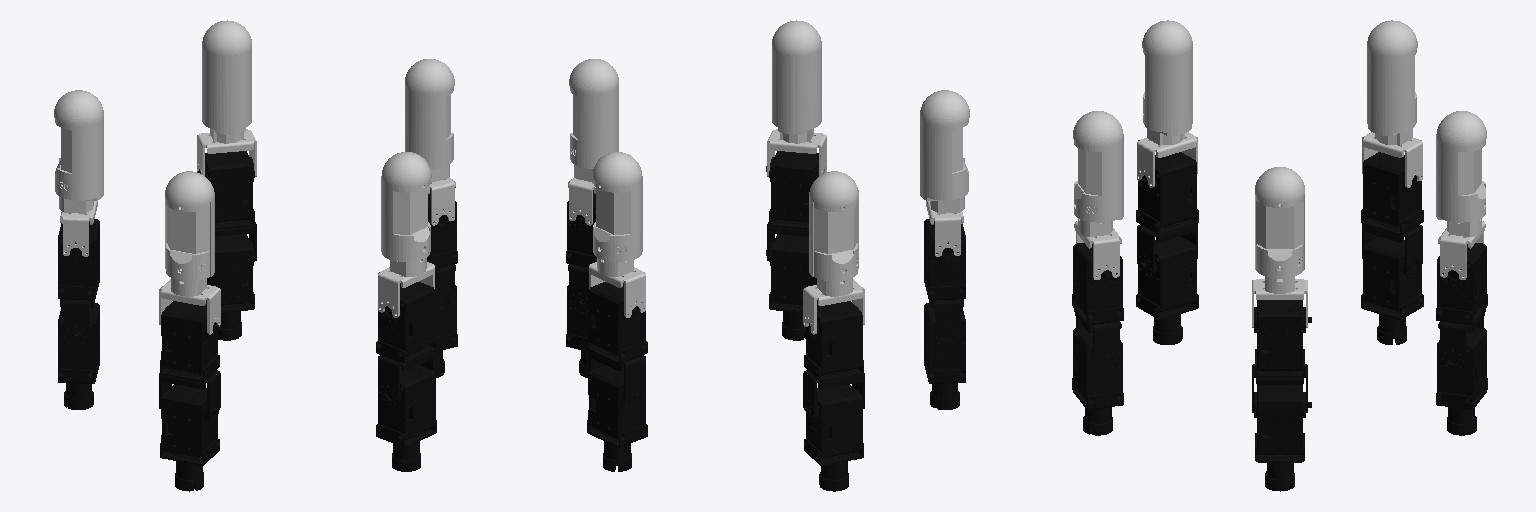
robot.urdf — hand:
<?xml version="1.0" encoding="utf-8"?>

<robot name="hand">

  <material name="black">
    <color rgba="0 0 0 1"/>
  </material>
  <material name="gray">
    <color rgba="0.1 0.1 0.1 1"/>
  </material>
  <material name="lightgray">
    <color rgba="0.8 0.8 0.8 1"/>
  </material>

  <link name="base_link">
    <origin rpy="0.0 0.0 0.0" xyz="0.0 0.0 0.0"/>
  </link>

  <!-- Finger 1 -->
  <link name="finger1_proximal">
    <visual>
      <origin rpy="0 0 0" xyz="0 0 0" />
      <geometry>
        <mesh filename="package://hand/urdf/meshes/visual/proximal.dae"/>
      </geometry>
      <material name="gray"/>
    </visual>
    <collision>
      <origin rpy="0 0 0" xyz="0 0 0" />
      <geometry>
        <mesh filename="package://hand/urdf/meshes/collision/proximal.obj"/>
      </geometry>
    </collision>
    <inertial>
      <mass value="0.100"/>
    </inertial>
  </link>
  <link name="finger1_middle">
    <visual>
      <origin rpy="0 0 0" xyz="0 0 0" />
      <geometry>
        <mesh filename="package://hand/urdf/meshes/visual/middle.dae"/>
      </geometry>
      <material name="gray"/>
    </visual>
    <collision>
      <origin rpy="0 0 0" xyz="0 0 0" />
      <geometry>
        <mesh filename="package://hand/urdf/meshes/collision/middle.obj"/>
      </geometry>
    </collision>
    <inertial>
      <mass value="0.100"/>
    </inertial>
  </link>
  <link name="finger1_distal">
    <visual>
      <origin rpy="0 3.14159265359 0" xyz="0 0 0"/>
      <geometry>
        <mesh filename="package://hand/urdf/meshes/visual/distal.dae"/>
      </geometry>
      <material name="lightgray"/>
    </visual>
<!--    <visual name="tip">-->
<!--      <origin xyz="0 0 0"/>-->
<!--      <geometry>-->
<!--        <sphere radius="0.019"/>-->
<!--      </geometry>-->
<!--    </visual>-->
<!--    <visual name="body">-->
<!--      <origin xyz="0 0 -0.03075"/>-->
<!--      <geometry>-->
<!--        <cylinder length="0.0615" radius="0.019"/>-->
<!--      </geometry>-->
<!--    </visual>-->
    <collision name="tip">
      <origin rpy="-1.57079633 1.57079633 0" xyz="0.0 0.1043 0.0"/>
      <geometry>
        <sphere radius="0.019"/>
      </geometry>
    </collision>
    <collision name="body">
      <origin rpy="-1.57079633 1.57079633 0" xyz="0 0.06358 0.0"/>
      <geometry>
        <cylinder length="0.0815" radius="0.019"/>
      </geometry>
    </collision>
    <inertial>
      <mass value="0.11"/>
      <inertia ixx="0.01" ixy="0.00" ixz="0.00" iyy="0.01" iyz="0.0" izz="0.01"/>
      <!-- inertia is recomputed when loading asset  -->
    </inertial>
  </link>
  <link name="finger1_distal_tip">
  </link>
  <joint name="finger1_proximal_joint" type="revolute">
    <parent link="base_link"/>
    <child link="finger1_proximal"/>
    <origin rpy="1.57079633 0 1.57079633" xyz="0.14142136 0.0 0.041"/>
    <axis xyz="0 1 0"/>
    <limit effort="4" velocity="1.0" lower="-1.0" upper="1.0"/>
  </joint>
  <joint name="finger1_middle_joint" type="revolute">
    <parent link="finger1_proximal"/>
    <child link="finger1_middle"/>
    <origin rpy="0 0 0" xyz="0.0 0.0655 0.0"/>
    <axis xyz="-1 0 0"/>
    <limit effort="4" velocity="1.0" lower="0.0" upper="1.0"/>
  </joint>
  <joint name="finger1_distal_joint" type="revolute">
    <parent link="finger1_middle"/>
    <child link="finger1_distal"/>
    <origin rpy="0 0 0" xyz="0.0 0.069 0.0"/>
    <axis xyz="-1 0 0"/>
    <limit effort="4" velocity="1.0" lower="0.0" upper="1.0"/>
  </joint>
  <joint name="finger1_distal_tip_joint" type="fixed">
    <parent link="finger1_distal"/>
    <child link="finger1_distal_tip"/>
    <origin rpy="-1.57079633 1.57079633 0" xyz="0.0 0.1035 0.0"/>
  </joint>

  <!-- Finger 2 -->
  <link name="finger2_proximal">
    <visual>
      <origin rpy="0 0 0" xyz="0 0 0" />
      <geometry>
        <mesh filename="package://hand/urdf/meshes/visual/proximal.dae"/>
      </geometry>
      <material name="gray"/>
    </visual>
    <collision>
      <origin rpy="0 0 0" xyz="0 0 0" />
      <geometry>
        <mesh filename="package://hand/urdf/meshes/collision/proximal.obj"/>
      </geometry>
    </collision>
    <inertial>
      <mass value="0.100"/>
    </inertial>
  </link>
  <link name="finger2_middle">
    <visual>
      <origin rpy="0 0 0" xyz="0 0 0" />
      <geometry>
        <mesh filename="package://hand/urdf/meshes/visual/middle.dae"/>
      </geometry>
      <material name="gray"/>
    </visual>
    <collision>
      <origin rpy="0 0 0" xyz="0 0 0" />
      <geometry>
        <mesh filename="package://hand/urdf/meshes/collision/middle.obj"/>
      </geometry>
    </collision>
    <inertial>
      <mass value="0.100"/>
    </inertial>
  </link>
  <link name="finger2_distal">
    <visual>
      <origin rpy="0 3.14159265359 0" xyz="0 0 0" />
      <geometry>
        <mesh filename="package://hand/urdf/meshes/visual/distal.dae"/>
      </geometry>
      <material name="lightgray"/>
    </visual>
<!--    <collision>-->
<!--      <origin rpy="0 3.14159265359 0" xyz="0 0 0" />-->
<!--      <geometry>-->
<!--        <mesh filename="package://hand/urdf/meshes/collision/distal.obj"/>-->
<!--      </geometry>-->
<!--    </collision>-->
    <collision name="tip">
      <origin rpy="-1.57079633 1.57079633 0" xyz="0.0 0.1043 0.0"/>
      <geometry>
        <sphere radius="0.019"/>
      </geometry>
    </collision>
    <collision name="body">
      <origin rpy="-1.57079633 1.57079633 0" xyz="0 0.06358 0.0"/>
      <geometry>
        <cylinder length="0.0815" radius="0.019"/>
      </geometry>
    </collision>
    <inertial>
      <mass value="0.11"/>
      <inertia ixx="0.01" ixy="0.00" ixz="0.00" iyy="0.01" iyz="0.0" izz="0.01"/>
      <!-- inertia is recomputed when loading asset  -->
    </inertial>
  </link>
  <link name="finger2_distal_tip">
<!--    <visual name="tip">-->
<!--      <origin xyz="0 0 0"/>-->
<!--      <geometry>-->
<!--        <sphere radius="0.019"/>-->
<!--      </geometry>-->
<!--    </visual>-->
<!--    <visual name="body">-->
<!--      <origin xyz="0 0 -0.03075"/>-->
<!--      <geometry>-->
<!--        <cylinder length="0.0615" radius="0.019"/>-->
<!--      </geometry>-->
<!--    </visual>-->
<!--    <collision name="tip">-->
<!--      <origin xyz="0 0 0"/>-->
<!--      <geometry>-->
<!--        <sphere radius="0.019"/>-->
<!--      </geometry>-->
<!--    </collision>-->
<!--    <collision name="body">-->
<!--      <origin xyz="0 0 -0.03075"/>-->
<!--      <geometry>-->
<!--        <cylinder length="0.0615" radius="0.019"/>-->
<!--      </geometry>-->
<!--    </collision>-->
<!--    <inertial>-->
<!--      <mass value="0.05"/>-->
<!--      <inertia ixx="0.01" ixy="0.00" ixz="0.00" iyy="0.01" iyz="0.0" izz="0.01"/>-->
<!--      &lt;!&ndash; inertia is recomputed when loading asset  &ndash;&gt;-->
<!--    </inertial>-->
  </link>
  <joint name="finger2_proximal_joint" type="revolute">
    <parent link="base_link"/>
    <child link="finger2_proximal"/>
    <origin rpy="1.57079633 0 2.82743338823" xyz="0.043701602 0.134499702 0.041"/>
    <axis xyz="0 1 0"/>
    <limit effort="4" velocity="1.0" lower="-1.0" upper="1.0"/>
  </joint>
  <joint name="finger2_middle_joint" type="revolute">
    <parent link="finger2_proximal"/>
    <child link="finger2_middle"/>
    <origin rpy="0 0 0" xyz="0.0 0.0655 0.0"/>
    <axis xyz="-1 0 0"/>
    <limit effort="4" velocity="1.0" lower="0.0" upper="1.0"/>
  </joint>
  <joint name="finger2_distal_joint" type="revolute">
    <parent link="finger2_middle"/>
    <child link="finger2_distal"/>
    <origin rpy="0 0 0" xyz="0.0 0.069 0.0"/>
    <axis xyz="-1 0 0"/>
    <limit effort="4" velocity="1.0" lower="0.0" upper="1.0"/>
  </joint>
  <joint name="finger2_distal_tip_joint" type="fixed">
    <parent link="finger2_distal"/>
    <child link="finger2_distal_tip"/>
    <origin rpy="-1.57079633 1.57079633 0" xyz="0.0 0.1035 0.0"/>
  </joint>


  <!-- Finger 3 -->
  <link name="finger3_proximal">
     <visual>
      <origin rpy="0 0 0" xyz="0 0 0" />
      <geometry>
        <mesh filename="package://hand/urdf/meshes/visual/proximal.dae"/>
      </geometry>
      <material name="gray"/>
    </visual>
    <collision>
      <origin rpy="0 0 0" xyz="0 0 0" />
      <geometry>
        <mesh filename="package://hand/urdf/meshes/collision/proximal.obj"/>
      </geometry>
    </collision>
     <inertial>
      <mass value="0.100"/>
    </inertial>
  </link>
  <link name="finger3_middle">
    <visual>
      <origin rpy="0 0 0" xyz="0 0 0" />
      <geometry>
        <mesh filename="package://hand/urdf/meshes/visual/middle.dae"/>
      </geometry>
      <material name="gray"/>
    </visual>
    <collision>
      <origin rpy="0 0 0" xyz="0 0 0" />
      <geometry>
        <mesh filename="package://hand/urdf/meshes/collision/middle.obj"/>
      </geometry>
    </collision>
    <inertial>
      <mass value="0.100"/>
    </inertial>
  </link>
  <link name="finger3_distal">
    <visual>
      <origin rpy="0 3.14159265359 0" xyz="0 0 0" />
      <geometry>
        <mesh filename="package://hand/urdf/meshes/visual/distal.dae"/>
      </geometry>
      <material name="lightgray"/>
    </visual>
<!--    <collision>-->
<!--      <origin rpy="0 3.14159265359 0" xyz="0 0 0" />-->
<!--      <geometry>-->
<!--        <mesh filename="package://hand/urdf/meshes/collision/distal.obj"/>-->
<!--      </geometry>-->
<!--    </collision>-->
    <collision name="tip">
      <origin rpy="-1.57079633 1.57079633 0" xyz="0.0 0.1043 0.0"/>
      <geometry>
        <sphere radius="0.019"/>
      </geometry>
    </collision>
    <collision name="body">
      <origin rpy="-1.57079633 1.57079633 0" xyz="0 0.06358 0.0"/>
      <geometry>
        <cylinder length="0.0815" radius="0.019"/>
      </geometry>
    </collision>
    <inertial>
      <mass value="0.11"/>
      <inertia ixx="0.01" ixy="0.00" ixz="0.00" iyy="0.01" iyz="0.0" izz="0.01"/>
      <!-- inertia is recomputed when loading asset  -->
    </inertial>
  </link>
  <link name="finger3_distal_tip">
<!--       <visual name="tip">-->
<!--      <origin xyz="0 0 0"/>-->
<!--      <geometry>-->
<!--        <sphere radius="0.019"/>-->
<!--      </geometry>-->
<!--    </visual>-->
<!--    <visual name="body">-->
<!--      <origin xyz="0 0 -0.03075"/>-->
<!--      <geometry>-->
<!--        <cylinder length="0.0615" radius="0.019"/>-->
<!--      </geometry>-->
<!--    </visual>-->
<!--    <collision name="tip">-->
<!--      <origin xyz="0 0 0"/>-->
<!--      <geometry>-->
<!--        <sphere radius="0.019"/>-->
<!--      </geometry>-->
<!--    </collision>-->
<!--    <collision name="body">-->
<!--      <origin xyz="0 0 -0.03075"/>-->
<!--      <geometry>-->
<!--        <cylinder length="0.0615" radius="0.019"/>-->
<!--      </geometry>-->
<!--    </collision>-->
<!--    <inertial>-->
<!--      <mass value="0.11"/>-->
<!--      <inertia ixx="0.01" ixy="0.00" ixz="0.00" iyy="0.01" iyz="0.0" izz="0.01"/>-->
<!--      &lt;!&ndash; inertia is recomputed when loading asset  &ndash;&gt;-->
<!--    </inertial>-->
  </link>
  <joint name="finger3_proximal_joint" type="revolute">
    <parent link="base_link"/>
    <child link="finger3_proximal"/>
    <origin rpy="1.57079633 0 -2.19911485751" xyz="-0.114412281  0.083125388  0.041"/>
    <axis xyz="0 1 0"/>
    <limit effort="4" velocity="1.0" lower="-1.0" upper="1.0"/>
  </joint>
  <joint name="finger3_middle_joint" type="revolute">
    <parent link="finger3_proximal"/>
    <child link="finger3_middle"/>
    <origin rpy="0 0 0" xyz="0.0 0.0655 0.0"/>
    <axis xyz="-1 0 0"/>
    <limit effort="4" velocity="1.0" lower="0.0" upper="1.0"/>
  </joint>
  <joint name="finger3_distal_joint" type="revolute">
    <parent link="finger3_middle"/>
    <child link="finger3_distal"/>
    <origin rpy="0 0 0" xyz="0.0 0.069 0.0"/>
    <axis xyz="-1 0 0"/>
    <limit effort="4" velocity="1.0" lower="0.0" upper="1.0"/>
  </joint>
  <joint name="finger3_distal_tip_joint" type="fixed">
    <parent link="finger3_distal"/>
    <child link="finger3_distal_tip"/>
    <origin rpy="-1.57079633 1.57079633 0" xyz="0.0 0.1035 0.0"/>
  </joint>

  <!-- Finger 4 -->
  <link name="finger4_proximal">
     <visual>
      <origin rpy="0 0 0" xyz="0 0 0" />
      <geometry>
        <mesh filename="package://hand/urdf/meshes/visual/proximal.dae"/>
      </geometry>
      <material name="gray"/>
    </visual>
    <collision>
      <origin rpy="0 0 0" xyz="0 0 0" />
      <geometry>
        <mesh filename="package://hand/urdf/meshes/collision/proximal.obj"/>
      </geometry>
    </collision>
    <inertial>
      <mass value="0.100"/>
    </inertial>
  </link>
  <link name="finger4_middle">
   <visual>
      <origin rpy="0 0 0" xyz="0 0 0" />
      <geometry>
        <mesh filename="package://hand/urdf/meshes/visual/middle.dae"/>
      </geometry>
      <material name="gray"/>
    </visual>
    <collision>
      <origin rpy="0 0 0" xyz="0 0 0" />
      <geometry>
        <mesh filename="package://hand/urdf/meshes/collision/middle.obj"/>
      </geometry>
    </collision>
    <inertial>
      <mass value="0.100"/>
    </inertial>
  </link>
  <link name="finger4_distal">
    <visual>
      <origin rpy="0 3.14159265359 0" xyz="0 0 0" />
      <geometry>
        <mesh filename="package://hand/urdf/meshes/visual/distal.dae"/>
      </geometry>
      <material name="lightgray"/>
    </visual>
<!--    <collision>-->
<!--      <origin rpy="0 3.14159265359 0" xyz="0 0 0" />-->
<!--      <geometry>-->
<!--        <mesh filename="package://hand/urdf/meshes/collision/distal.obj"/>-->
<!--      </geometry>-->
<!--    </collision>-->
    <collision name="tip">
      <origin rpy="-1.57079633 1.57079633 0" xyz="0.0 0.1043 0.0"/>
      <geometry>
        <sphere radius="0.019"/>
      </geometry>
    </collision>
    <collision name="body">
      <origin rpy="-1.57079633 1.57079633 0" xyz="0 0.06358 0.0"/>
      <geometry>
        <cylinder length="0.0815" radius="0.019"/>
      </geometry>
    </collision>
    <inertial>
      <mass value="0.11"/>
      <inertia ixx="0.01" ixy="0.00" ixz="0.00" iyy="0.01" iyz="0.0" izz="0.01"/>
      <!-- inertia is recomputed when loading asset  -->
    </inertial>
  </link>
  <link name="finger4_distal_tip">
<!--       <visual name="tip">-->
<!--      <origin xyz="0 0 0"/>-->
<!--      <geometry>-->
<!--        <sphere radius="0.019"/>-->
<!--      </geometry>-->
<!--    </visual>-->
<!--    <visual name="body">-->
<!--      <origin xyz="0 0 -0.03075"/>-->
<!--      <geometry>-->
<!--        <cylinder length="0.0615" radius="0.019"/>-->
<!--      </geometry>-->
<!--    </visual>-->
<!--    <collision name="tip">-->
<!--      <origin xyz="0 0 0"/>-->
<!--      <geometry>-->
<!--        <sphere radius="0.019"/>-->
<!--      </geometry>-->
<!--    </collision>-->
<!--    <collision name="body">-->
<!--      <origin xyz="0 0 -0.03075"/>-->
<!--      <geometry>-->
<!--        <cylinder length="0.0615" radius="0.019"/>-->
<!--      </geometry>-->
<!--    </collision>-->
<!--    <inertial>-->
<!--      <mass value="0.05"/>-->
<!--      <inertia ixx="0.01" ixy="0.00" ixz="0.00" iyy="0.01" iyz="0.0" izz="0.01"/>-->
<!--      &lt;!&ndash; inertia is recomputed when loading asset  &ndash;&gt;-->
<!--    </inertial>-->
  </link>
  <joint name="finger4_proximal_joint" type="revolute">
    <parent link="base_link"/>
    <child link="finger4_proximal"/>
    <origin rpy="1.57079633 0 -0.94247779607" xyz="-0.114412281 -0.083125388  0.041"/>
    <axis xyz="0 1 0"/>
    <limit effort="4" velocity="1.0" lower="-1.0" upper="1.0"/>
  </joint>
  <joint name="finger4_middle_joint" type="revolute">
    <parent link="finger4_proximal"/>
    <child link="finger4_middle"/>
    <origin rpy="0 0 0" xyz="0.0 0.0655 0.0"/>
    <axis xyz="-1 0 0"/>
    <limit effort="4" velocity="1.0" lower="0.0" upper="1.0"/>
  </joint>
  <joint name="finger4_distal_joint" type="revolute">
    <parent link="finger4_middle"/>
    <child link="finger4_distal"/>
    <origin rpy="0 0 0" xyz="0.0 0.069 0.0"/>
    <axis xyz="-1 0 0"/>
    <limit effort="4" velocity="1.0" lower="0.0" upper="1.0"/>
  </joint>
  <joint name="finger4_distal_tip_joint" type="fixed">
    <parent link="finger4_distal"/>
    <child link="finger4_distal_tip"/>
    <origin rpy="-1.57079633 1.57079633 0" xyz="0.0 0.1035 0.0"/>
  </joint>


  <!-- Finger 5 -->
  <link name="finger5_proximal">
     <visual>
      <origin rpy="0 0 0" xyz="0 0 0" />
      <geometry>
        <mesh filename="package://hand/urdf/meshes/visual/proximal.dae"/>
      </geometry>
      <material name="gray"/>
    </visual>
    <collision>
      <origin rpy="0 0 0" xyz="0 0 0" />
      <geometry>
        <mesh filename="package://hand/urdf/meshes/collision/proximal.obj"/>
      </geometry>
    </collision>
    <inertial>
      <mass value="0.100"/>
    </inertial>
  </link>
  <link name="finger5_middle">
    <visual>
      <origin rpy="0 0 0" xyz="0 0 0" />
      <geometry>
        <mesh filename="package://hand/urdf/meshes/visual/middle.dae"/>
      </geometry>
      <material name="gray"/>
    </visual>
    <collision>
      <origin rpy="0 0 0" xyz="0 0 0" />
      <geometry>
        <mesh filename="package://hand/urdf/meshes/collision/middle.obj"/>
      </geometry>
    </collision>
    <inertial>
      <mass value="0.100"/>
    </inertial>
  </link>
  <link name="finger5_distal">
    <visual>
      <origin rpy="0 3.14159265359 0" xyz="0 0 0"/>
      <geometry>
        <mesh filename="package://hand/urdf/meshes/visual/distal.dae"/>
      </geometry>
      <material name="lightgray"/>
    </visual>
<!--    <collision>-->
<!--      <origin rpy="0 3.14159265359 0" xyz="0 0 0" />-->
<!--      <geometry>-->
<!--        <mesh filename="package://hand/urdf/meshes/collision/distal.obj"/>-->
<!--      </geometry>-->
<!--    </collision>-->
    <collision name="tip">
      <origin rpy="-1.57079633 1.57079633 0" xyz="0.0 0.1043 0.0"/>
      <geometry>
        <sphere radius="0.019"/>
      </geometry>
    </collision>
    <collision name="body">
      <origin rpy="-1.57079633 1.57079633 0" xyz="0 0.06358 0.0"/>
      <geometry>
        <cylinder length="0.0815" radius="0.019"/>
      </geometry>
    </collision>
    <inertial>
      <mass value="0.11"/>
      <inertia ixx="0.01" ixy="0.00" ixz="0.00" iyy="0.01" iyz="0.0" izz="0.01"/>
      <!-- inertia is recomputed when loading asset  -->
    </inertial>
  </link>
  <link name="finger5_distal_tip">
<!--       <visual name="tip">-->
<!--      <origin xyz="0 0 0"/>-->
<!--      <geometry>-->
<!--        <sphere radius="0.019"/>-->
<!--      </geometry>-->
<!--    </visual>-->
<!--    <visual name="body">-->
<!--      <origin xyz="0 0 -0.03075"/>-->
<!--      <geometry>-->
<!--        <cylinder length="0.0615" radius="0.019"/>-->
<!--      </geometry>-->
<!--    </visual>-->
<!--    <collision name="tip">-->
<!--      <origin xyz="0 0 0"/>-->
<!--      <geometry>-->
<!--        <sphere radius="0.019"/>-->
<!--      </geometry>-->
<!--    </collision>-->
<!--    <collision name="body">-->
<!--      <origin xyz="0 0 -0.03075"/>-->
<!--      <geometry>-->
<!--        <cylinder length="0.0615" radius="0.019"/>-->
<!--      </geometry>-->
<!--    </collision>-->
<!--    <inertial>-->
<!--      <mass value="0.05"/>-->
<!--      <inertia ixx="0.01" ixy="0.00" ixz="0.00" iyy="0.01" iyz="0.0" izz="0.01"/>-->
<!--      &lt;!&ndash; inertia is recomputed when loading asset  &ndash;&gt;-->
<!--    </inertial>-->
  </link>
  <joint name="finger5_proximal_joint" type="revolute">
    <parent link="base_link"/>
    <child link="finger5_proximal"/>
    <origin rpy="1.57079633 0 0.31415926535" xyz="0.043701602 -0.134499702  0.041"/>
    <axis xyz="0 1 0"/>
    <limit effort="4" velocity="1.0" lower="-1.0" upper="1.0"/>
  </joint>
  <joint name="finger5_middle_joint" type="revolute">
    <parent link="finger5_proximal"/>
    <child link="finger5_middle"/>
    <origin rpy="0 0 0" xyz="0.0 0.0655 0.0"/>
    <axis xyz="-1 0 0"/>
    <limit effort="4" velocity="1.0" lower="0.0" upper="1.0"/>
  </joint>
  <joint name="finger5_distal_joint" type="revolute">
    <parent link="finger5_middle"/>
    <child link="finger5_distal"/>
    <origin rpy="0 0 0" xyz="0.0 0.069 0.0"/>
    <axis xyz="-1 0 0"/>
    <limit effort="4" velocity="1.0" lower="0.0" upper="1.0"/>
  </joint>
  <joint name="finger5_distal_tip_joint" type="fixed">
    <parent link="finger5_distal"/>
    <child link="finger5_distal_tip"/>
    <origin rpy="-1.57079633 1.57079633 0" xyz="0.0 0.1035 0.0"/>
  </joint>
</robot>

--- What the picture shows (computed from the rendered views, not written in the file) ---
The picture shows the robot from 3 angles, left to right: view 1: azimuth 30°, elevation 25°; view 2: azimuth 150°, elevation 25°; view 3: azimuth 270°, elevation 25°; orthographic projection.
Robot: hand — 21 links, 20 joints (15 revolute, 5 fixed); root link base_link; default pose: all joints at 0.
Links seen in each view (by area): view 1: finger5_distal, finger4_distal, finger2_distal, finger3_distal, finger1_distal, finger4_middle, finger5_middle, finger4_proximal, finger5_proximal, finger2_middle, finger2_proximal, finger3_middle (+3 smaller); view 2: finger3_distal, finger2_distal, finger5_distal, finger4_distal, finger1_distal, finger3_middle, finger2_middle, finger3_proximal, finger2_proximal, finger5_middle, finger5_proximal, finger4_middle (+3 smaller); view 3: finger3_distal, finger4_distal, finger2_distal, finger5_distal, finger1_distal, finger3_middle, finger4_middle, finger4_proximal, finger3_proximal, finger1_proximal, finger1_middle, finger2_middle (+3 smaller).
Boxes of the visible links, bbox=[...] form: finger5_distal: bbox=[378, 152, 434, 317]; finger4_distal: bbox=[159, 171, 220, 334]; finger2_distal: bbox=[197, 20, 256, 176]; finger3_distal: bbox=[54, 90, 103, 256]; finger1_distal: bbox=[405, 59, 455, 225]; finger4_middle: bbox=[159, 301, 220, 417]; finger5_middle: bbox=[376, 282, 436, 400]; finger4_proximal: bbox=[160, 384, 219, 491]; finger5_proximal: bbox=[376, 365, 436, 471]; finger2_middle: bbox=[197, 151, 256, 260]; finger2_proximal: bbox=[206, 234, 254, 340]; finger3_middle: bbox=[58, 219, 99, 339]; finger3_distal: bbox=[803, 171, 864, 334]; finger2_distal: bbox=[589, 152, 645, 317]; finger5_distal: bbox=[767, 20, 826, 176]; finger4_distal: bbox=[920, 90, 969, 256]; finger1_distal: bbox=[568, 59, 618, 225]; finger3_middle: bbox=[803, 301, 864, 417]; finger2_middle: bbox=[587, 282, 647, 401]; finger3_proximal: bbox=[804, 384, 863, 491]; finger2_proximal: bbox=[587, 365, 647, 471]; finger5_middle: bbox=[766, 151, 818, 260]; finger5_proximal: bbox=[766, 234, 817, 340]; finger4_middle: bbox=[924, 219, 965, 339]; finger3_distal: bbox=[1362, 20, 1422, 187]; finger4_distal: bbox=[1137, 20, 1197, 187]; finger2_distal: bbox=[1436, 111, 1486, 279]; finger5_distal: bbox=[1073, 111, 1123, 279]; finger1_distal: bbox=[1252, 167, 1307, 327]; finger3_middle: bbox=[1361, 152, 1423, 272]; finger4_middle: bbox=[1136, 152, 1198, 272]; finger4_proximal: bbox=[1136, 237, 1198, 344]; finger3_proximal: bbox=[1361, 237, 1423, 344]; finger1_proximal: bbox=[1254, 385, 1311, 491]; finger1_middle: bbox=[1252, 300, 1311, 412]; finger2_middle: bbox=[1436, 243, 1487, 364].
Bounding box of the posed robot: 0.2969 × 0.3071 × 0.2578 m (x, y, z).
15 mesh visuals loaded from 3 distinct referenced files (3 Collada DAE).
